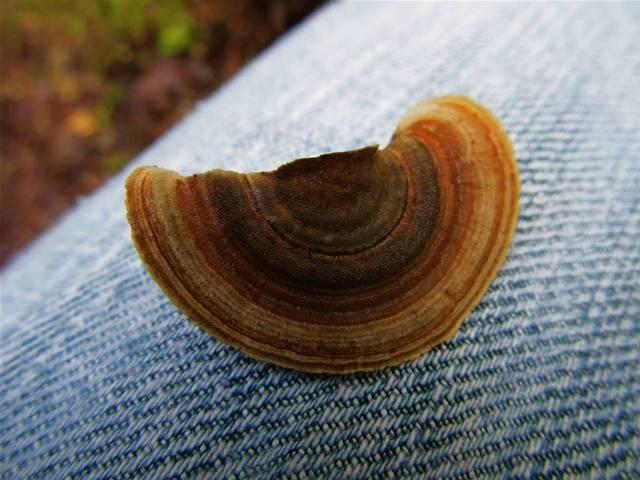poisonous_mushroom: (123, 92, 522, 375)
